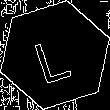L_N: (32, 26, 78, 84)
